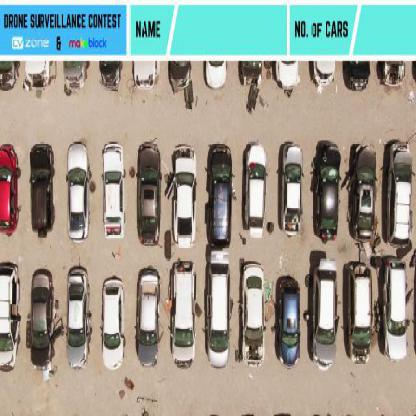car: (312, 143, 342, 241), (311, 256, 336, 370), (136, 143, 163, 247), (387, 141, 413, 248), (345, 262, 372, 364), (349, 144, 376, 245), (240, 261, 265, 369), (209, 243, 231, 365), (30, 269, 56, 371), (385, 256, 410, 360), (173, 144, 198, 246), (208, 144, 233, 246), (135, 267, 160, 365), (64, 268, 88, 370), (173, 263, 196, 368), (30, 143, 56, 232), (1, 258, 20, 378), (276, 277, 301, 368), (102, 143, 125, 240), (68, 144, 91, 240), (101, 278, 125, 369), (282, 145, 303, 240), (247, 143, 267, 236), (1, 146, 20, 235), (344, 63, 372, 92), (167, 62, 193, 93), (60, 62, 87, 90), (376, 63, 405, 88), (203, 61, 228, 88), (276, 62, 298, 92)
